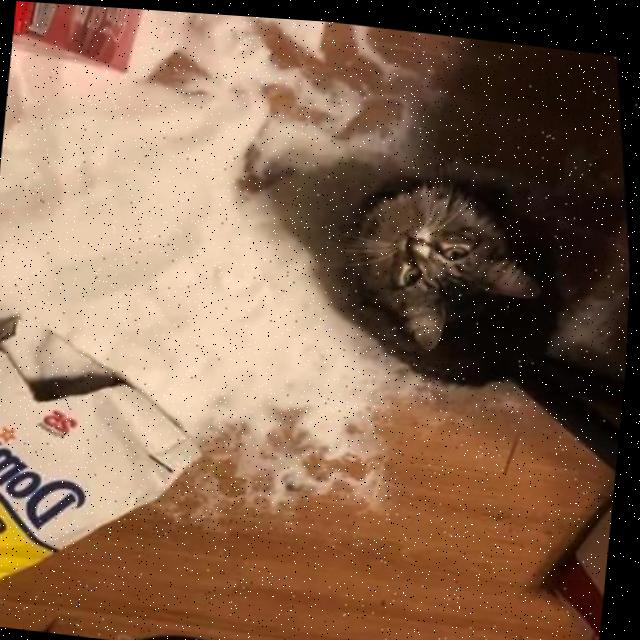Cats: (292, 108, 637, 483)
